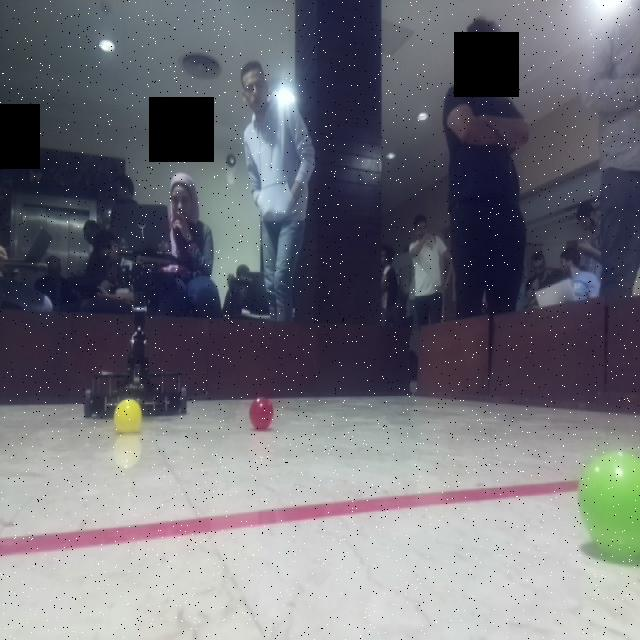ball: (576, 452, 637, 564), (114, 394, 146, 436), (246, 392, 276, 436)
